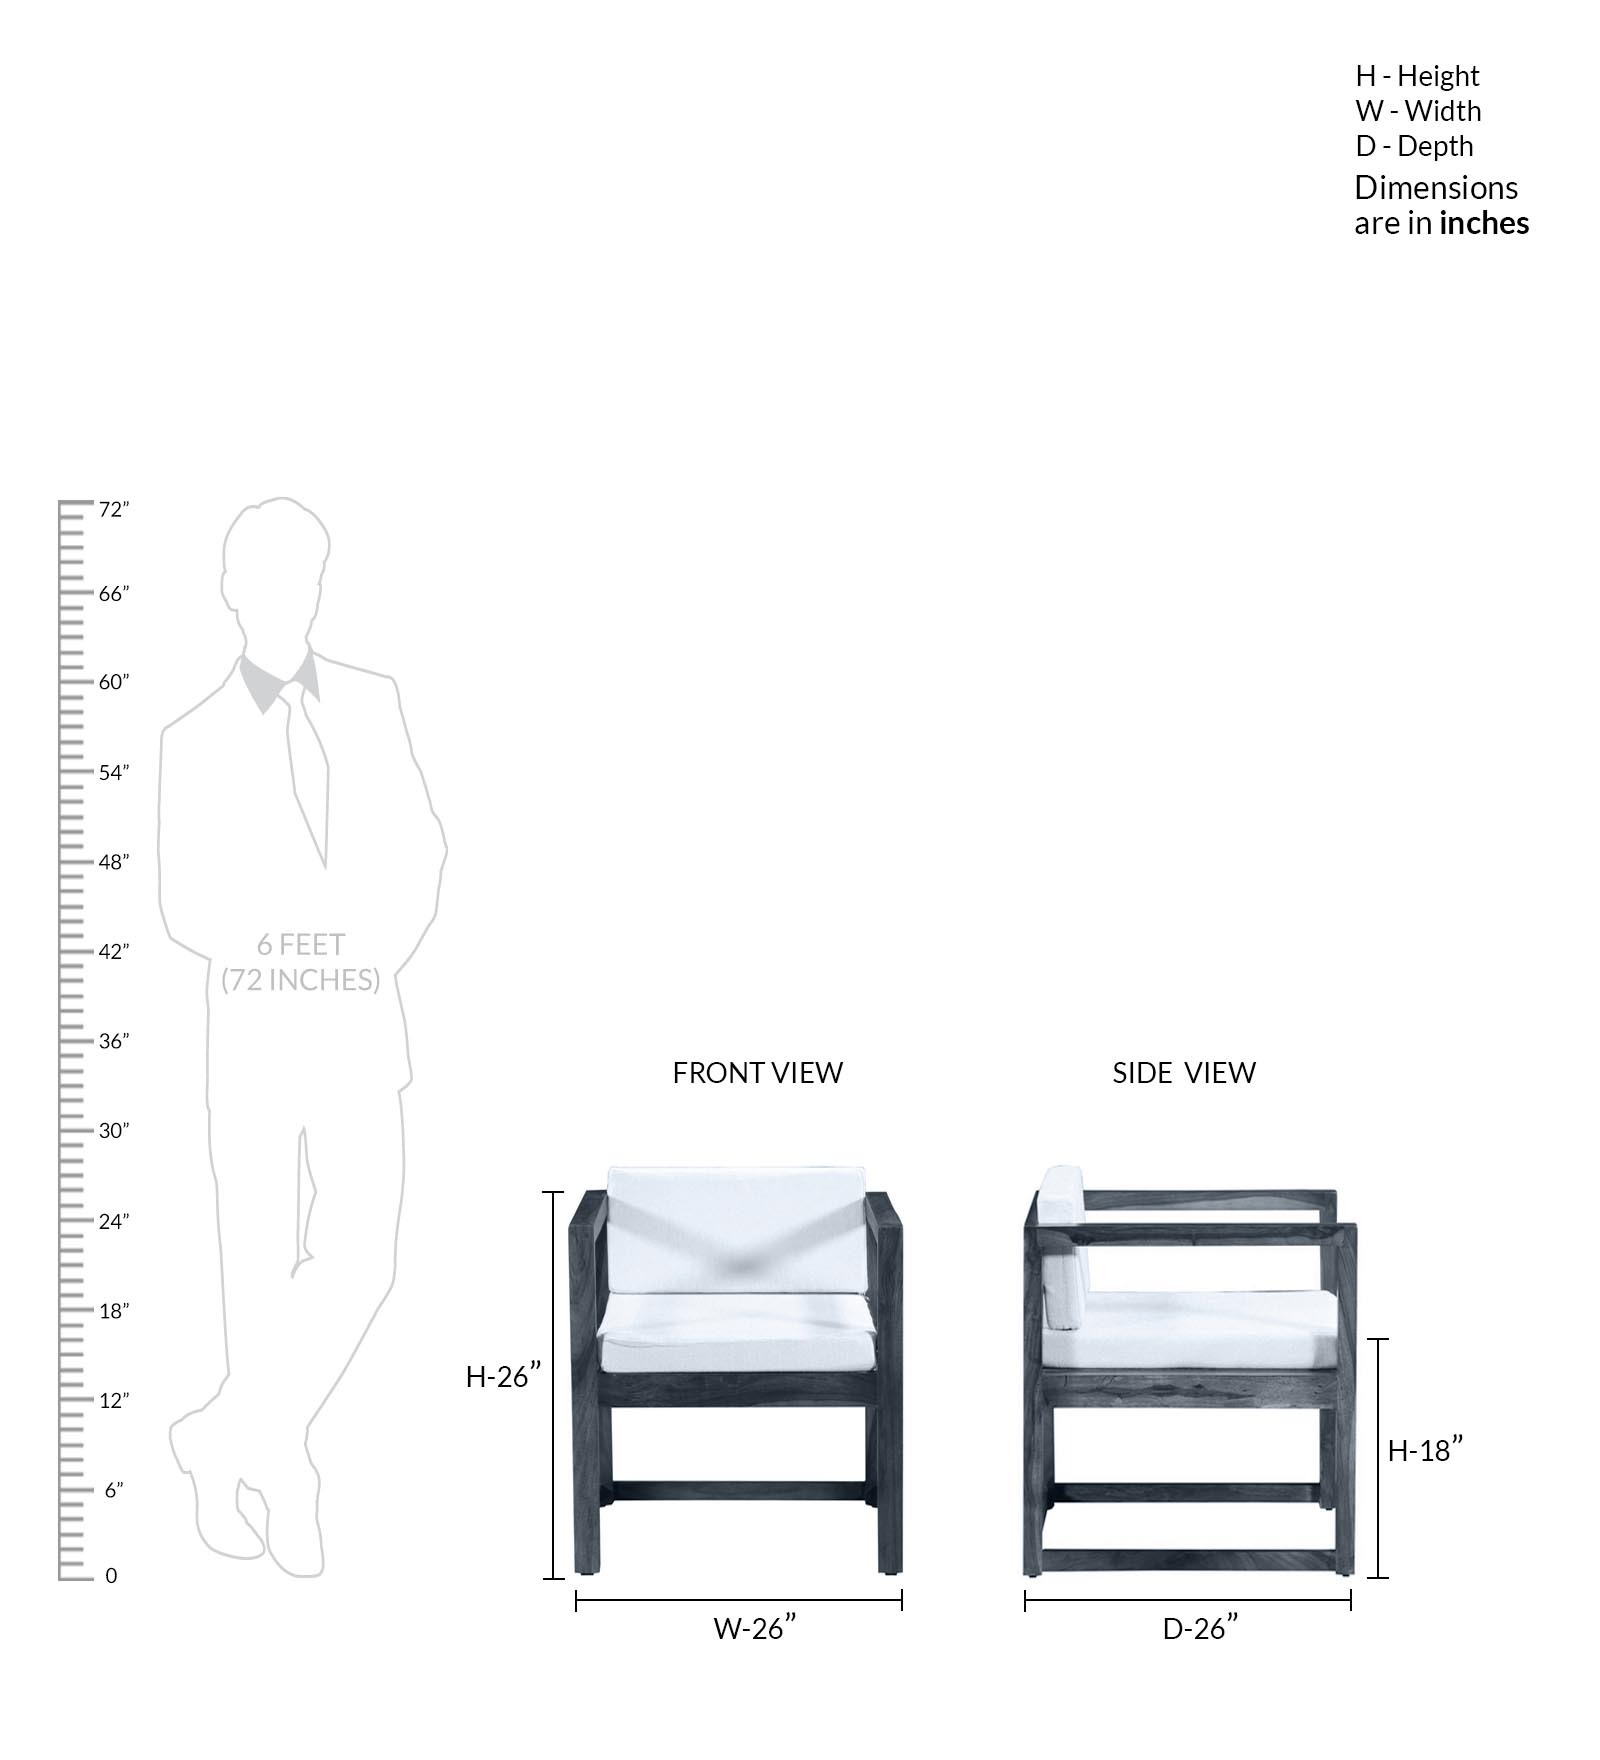Avian Arm Chair in Warm Chestnut Finish by Woodsworth: (995, 1131, 1379, 1588), (544, 1147, 909, 1593)
